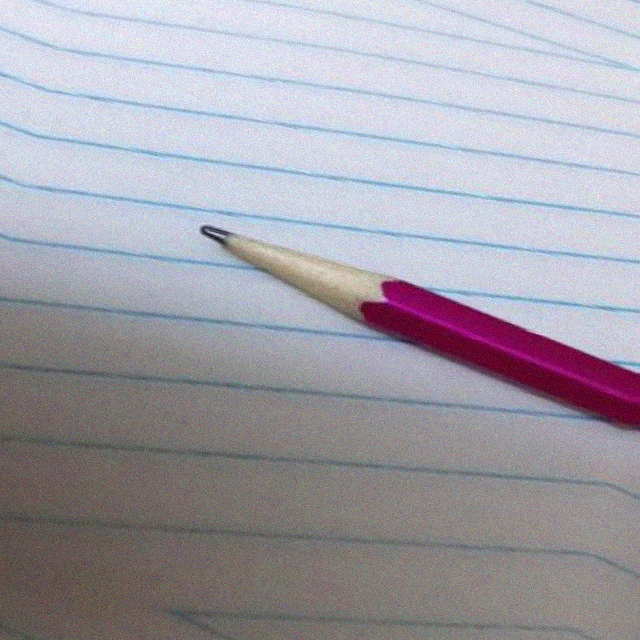pencil: (191, 212, 414, 322)
